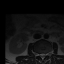CCS_normal: (41, 51, 43, 62)
LFS_normal: (46, 50, 48, 57)
LLS_normal: (43, 51, 46, 59)
RFS_normal: (37, 51, 39, 58)
RLS_normal: (39, 51, 41, 58)
